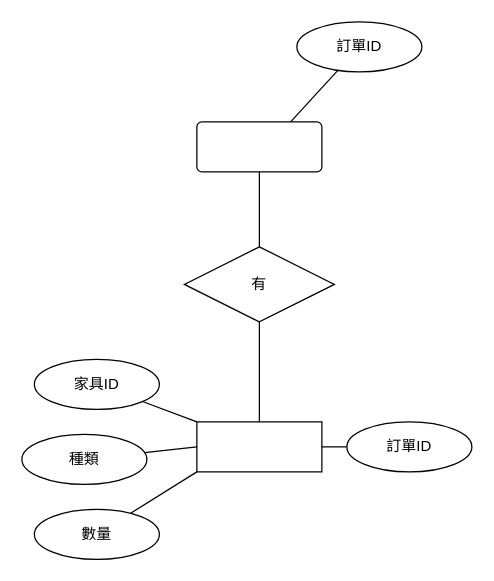
This 494x581 diagram has some shape labels left out. The shapes that lost their labels are listed below. From the top down, each one's centre as x and y in pixels, then its label:
the point at 259,146: 訂單
the point at 259,446: 家具
